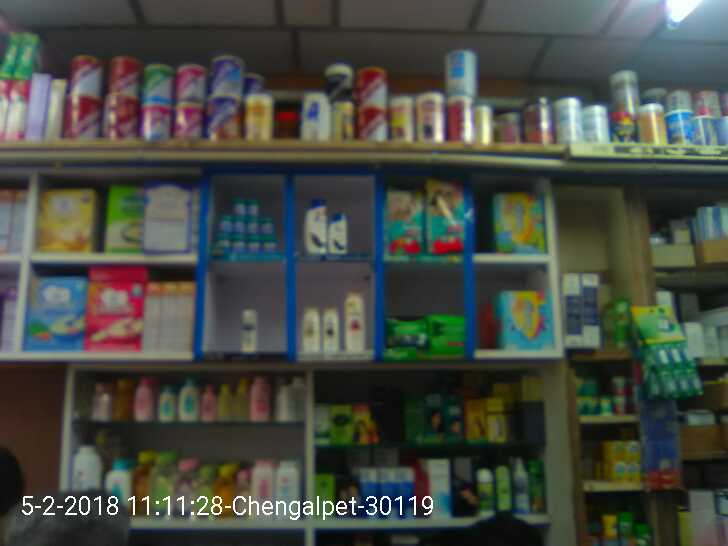vicks: (211, 193, 277, 251)
